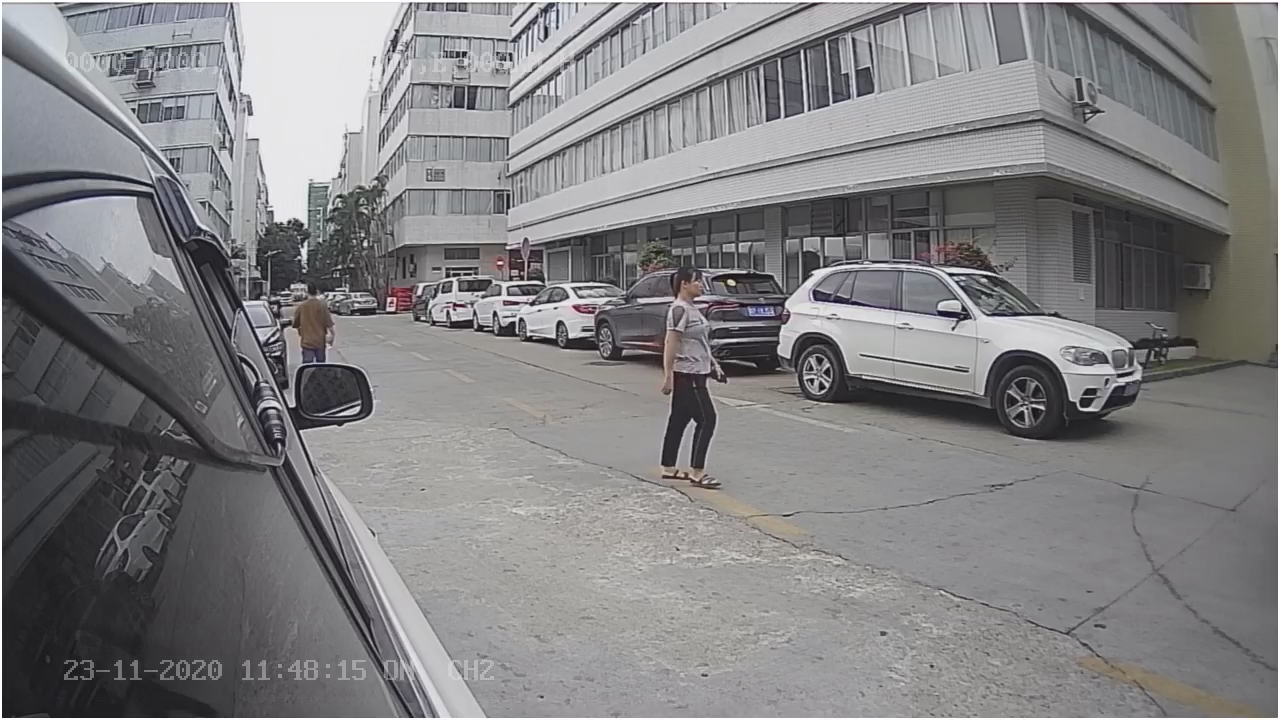person: (658, 263, 729, 494)
